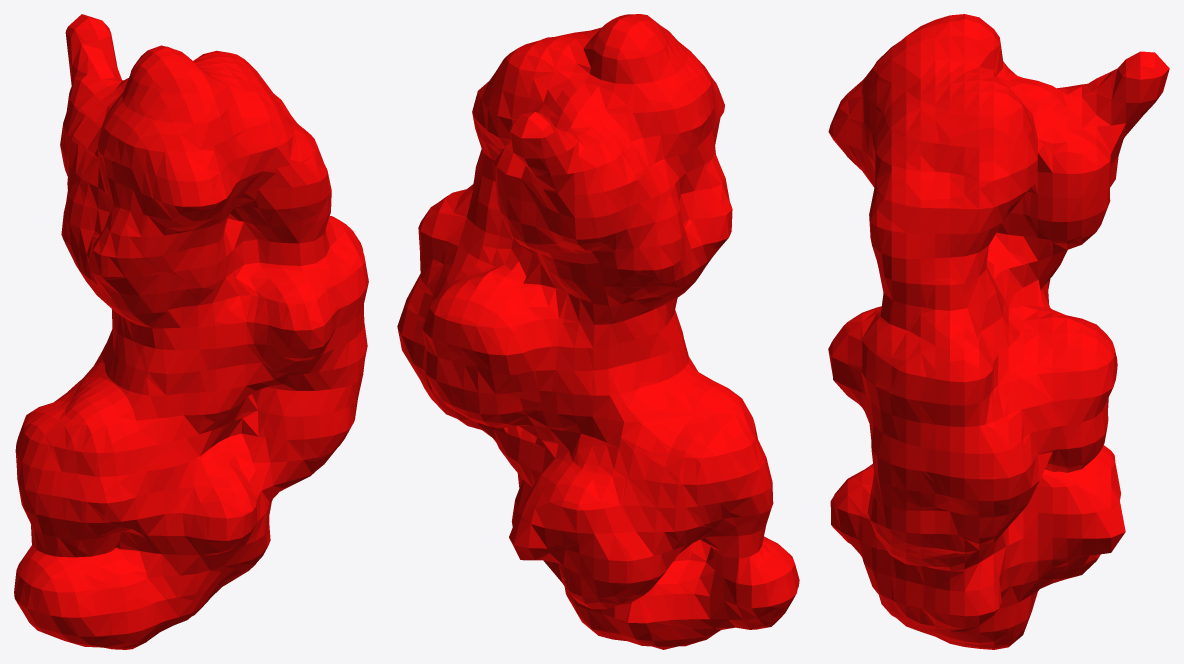
File: speG_coarse.dae
3 renders of one model, left to right at view 1: azimuth 30°, elevation 25°; view 2: azimuth 150°, elevation 25°; view 3: azimuth 270°, elevation 25°, orthographic. The views are drawn at different scales.
Visible parts, largest first — view 1: speG; view 2: speG; view 3: speG.
Part boxes in pixels (<box>): speG: <box>14,14,368,649</box>; speG: <box>397,14,799,649</box>; speG: <box>828,14,1169,649</box>.
Size of the model in its own units: 68.04 by 107 by 52.28.
